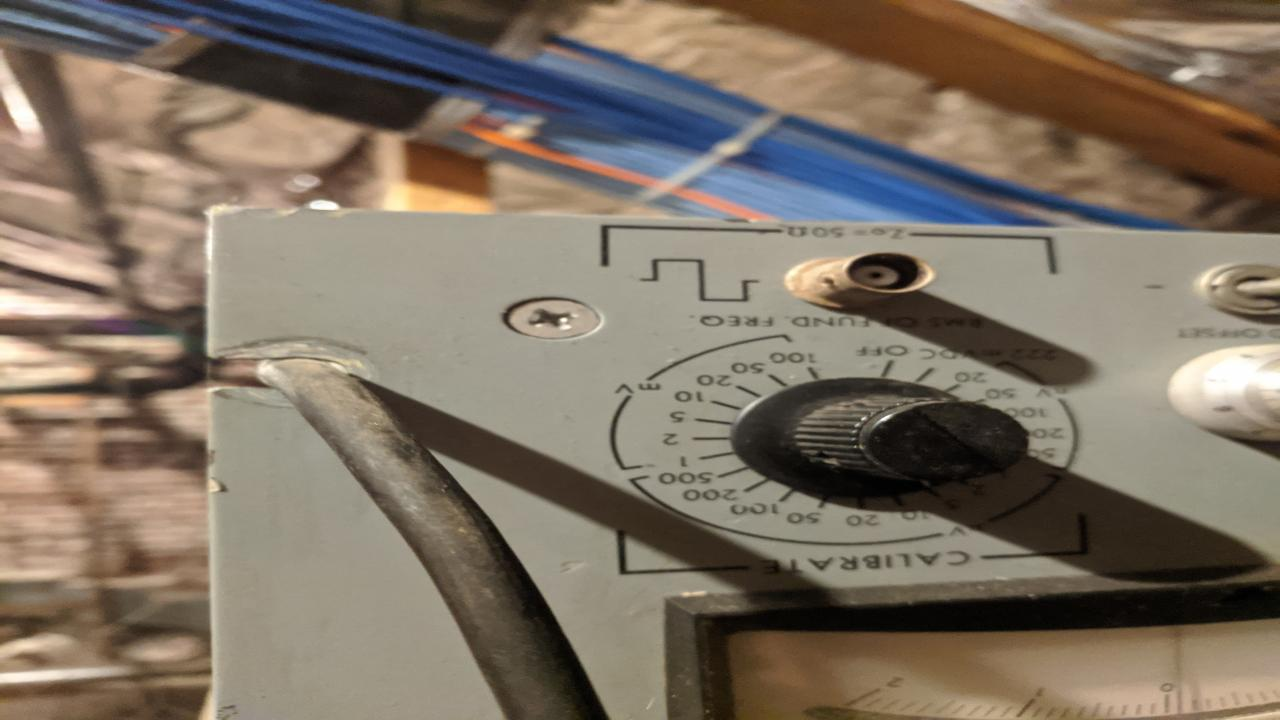CRS: (503, 296, 599, 340)
